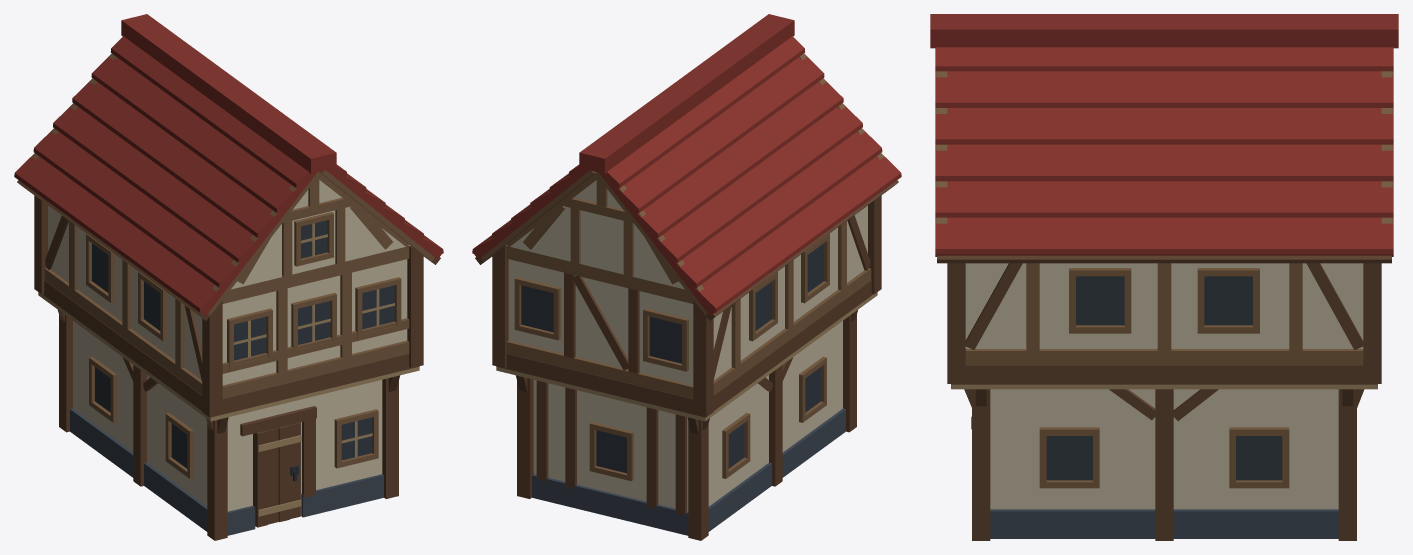
The model's file is two-story-house-40f6dc-preview.glb.
3 views of the same model, side by side, from view 1: azimuth 30°, elevation 25°; view 2: azimuth 150°, elevation 25°; view 3: azimuth 270°, elevation 25° (orthographic). The views are drawn at different scales.
Size of the model in its own units: 5.7 by 8.37 by 7.66.
